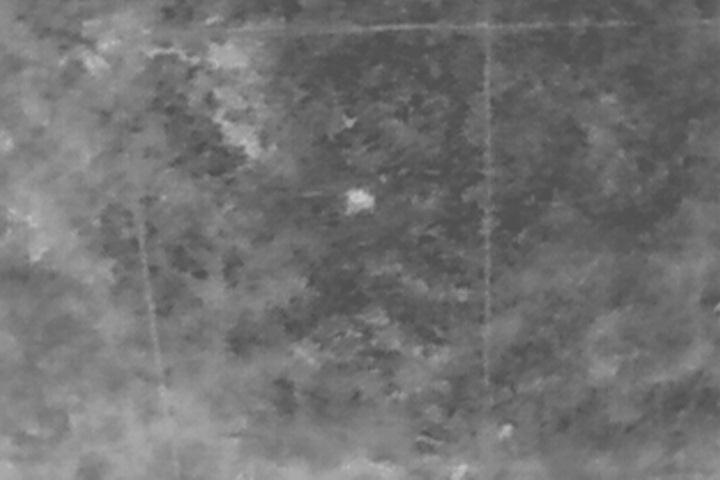landmine: (346, 188, 373, 213)
